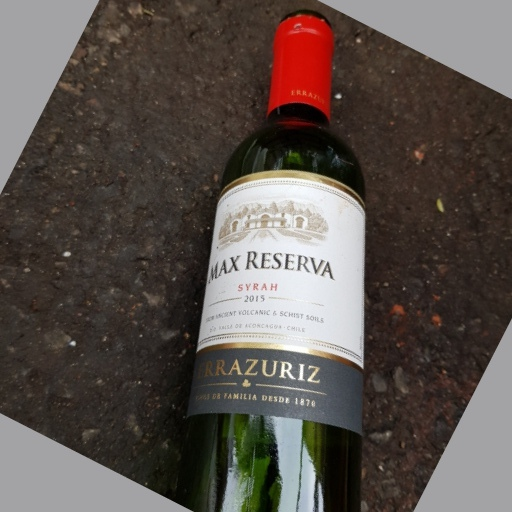Glass_2: (184, 14, 367, 512)
